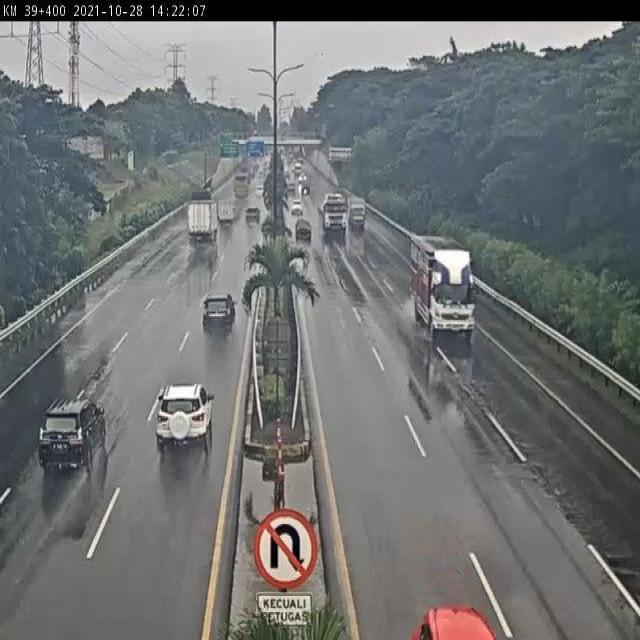car: (38, 398, 106, 471), (158, 384, 214, 451), (202, 291, 239, 336), (242, 203, 261, 228), (294, 216, 313, 241)
truck-l-: (410, 232, 476, 339), (184, 197, 220, 243)
truck-s-: (218, 200, 234, 227)
truck-xl-: (319, 196, 350, 240)
